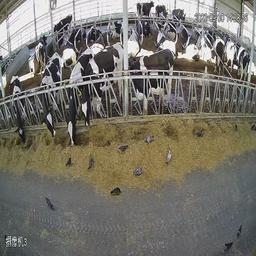cow: (76, 44, 124, 127), (66, 45, 94, 147), (128, 49, 175, 107), (40, 48, 61, 140), (8, 75, 27, 143), (35, 33, 48, 80), (236, 45, 249, 85), (54, 14, 75, 37), (178, 41, 199, 64), (214, 31, 223, 79), (136, 2, 155, 22), (171, 7, 187, 30), (109, 16, 123, 39), (156, 3, 169, 22)
